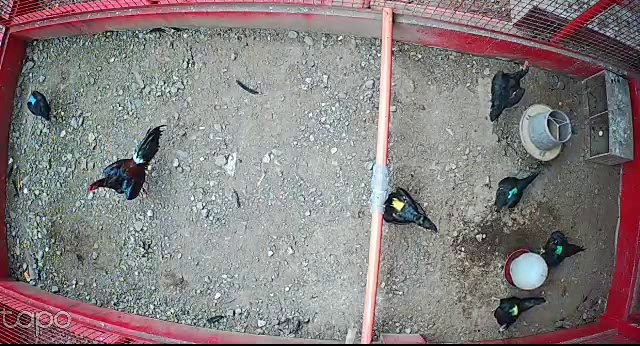Chicken: (487, 58, 533, 121), (489, 287, 549, 335), (380, 184, 437, 232), (490, 168, 542, 214), (537, 227, 589, 269), (25, 90, 55, 121)
Drinker: (502, 248, 549, 292)
Feeder: (519, 103, 572, 162)
Rooster: (85, 119, 171, 204)
Saddle_Color_Blue: (27, 95, 39, 106)
Saddle_Color_Bluegreen: (506, 186, 518, 199)
Saddle_Color_Green: (554, 245, 563, 254)
Saddle_Color_Yellow: (389, 197, 407, 211)
Saddle_Color_YellowGreen: (508, 304, 518, 316)
